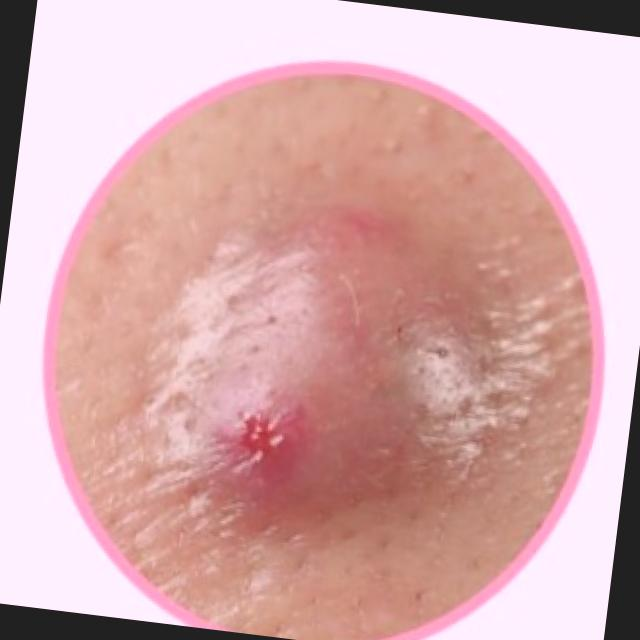nodule: (161, 192, 491, 549)
